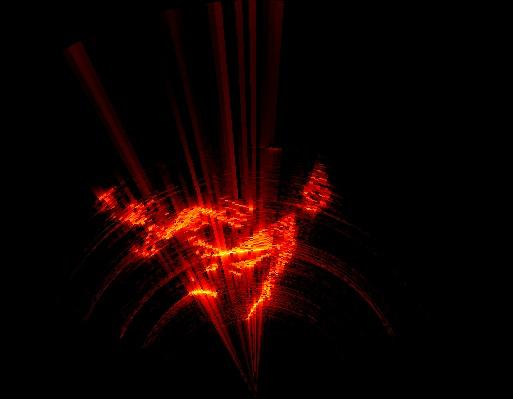shipwreck: (148, 201, 298, 318), (300, 166, 328, 215), (189, 289, 216, 294)
